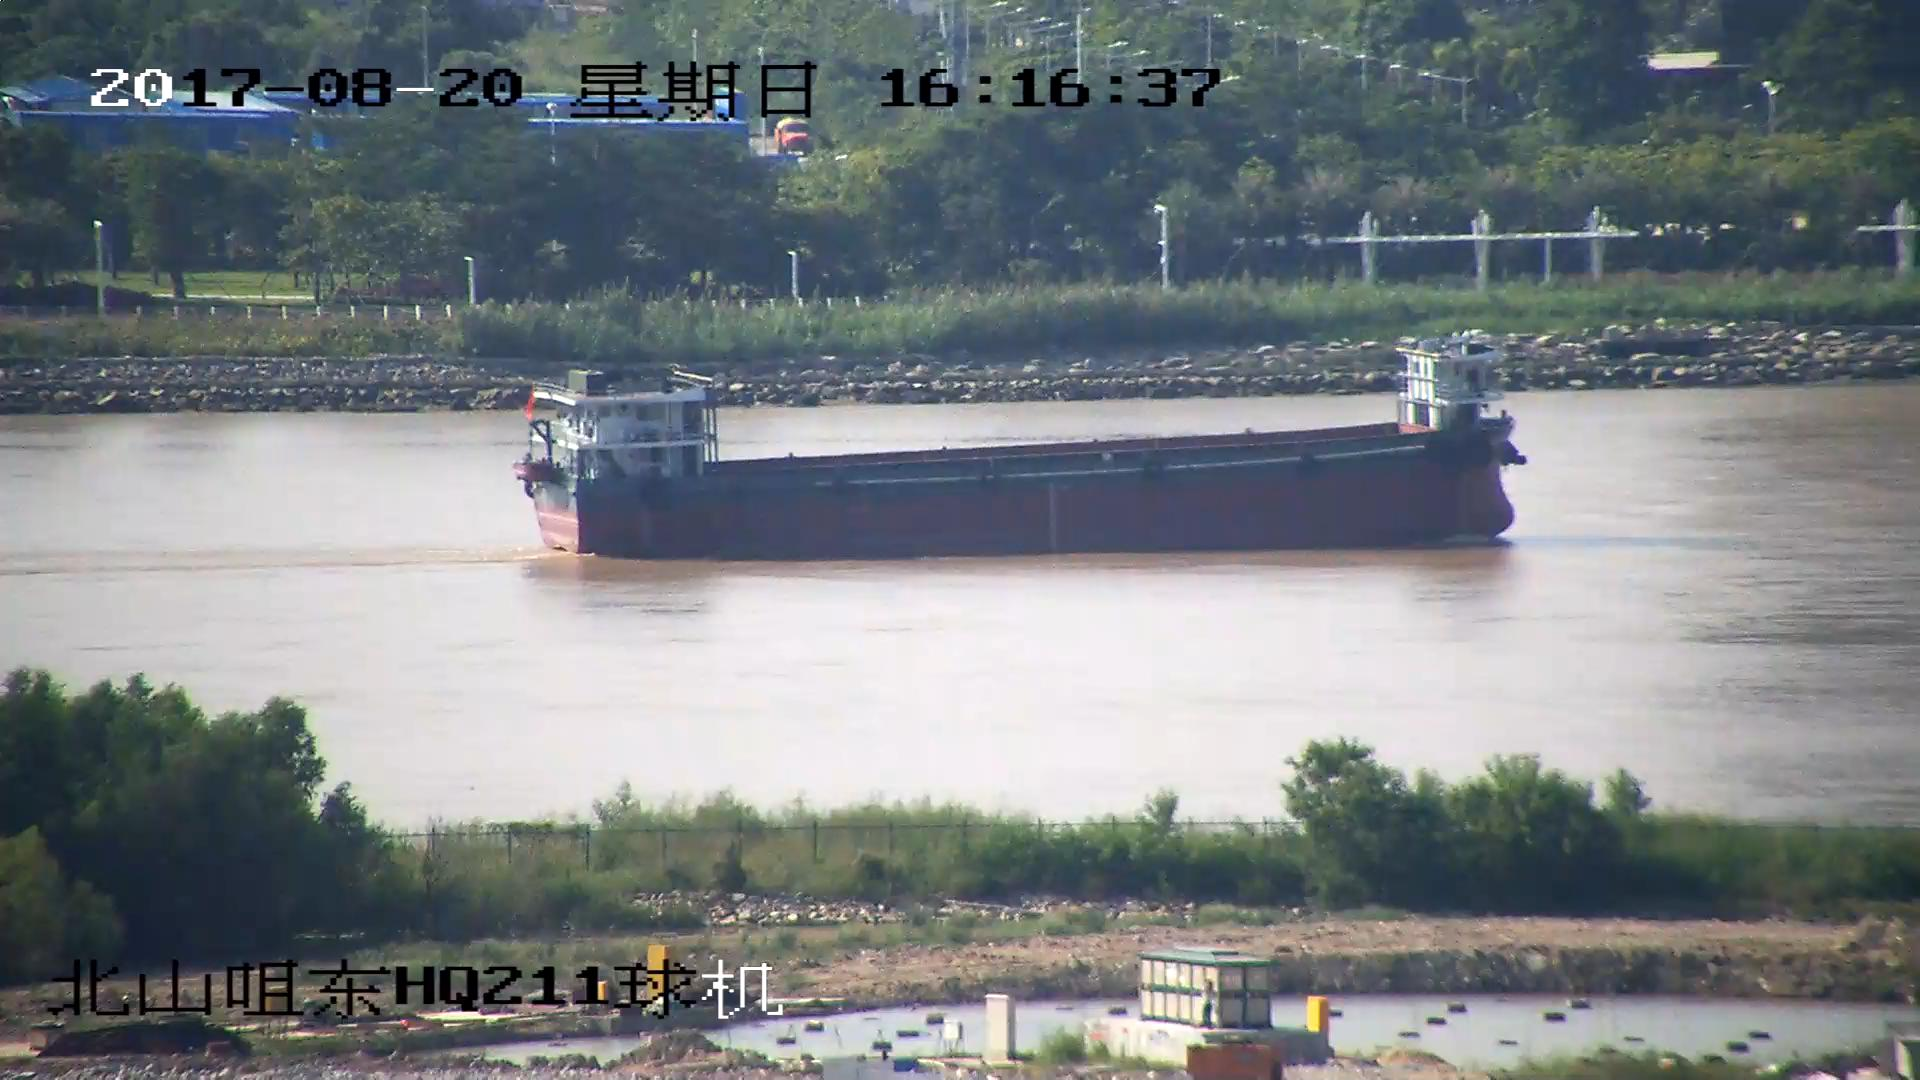general cargo ship: (523, 344, 1519, 552)
